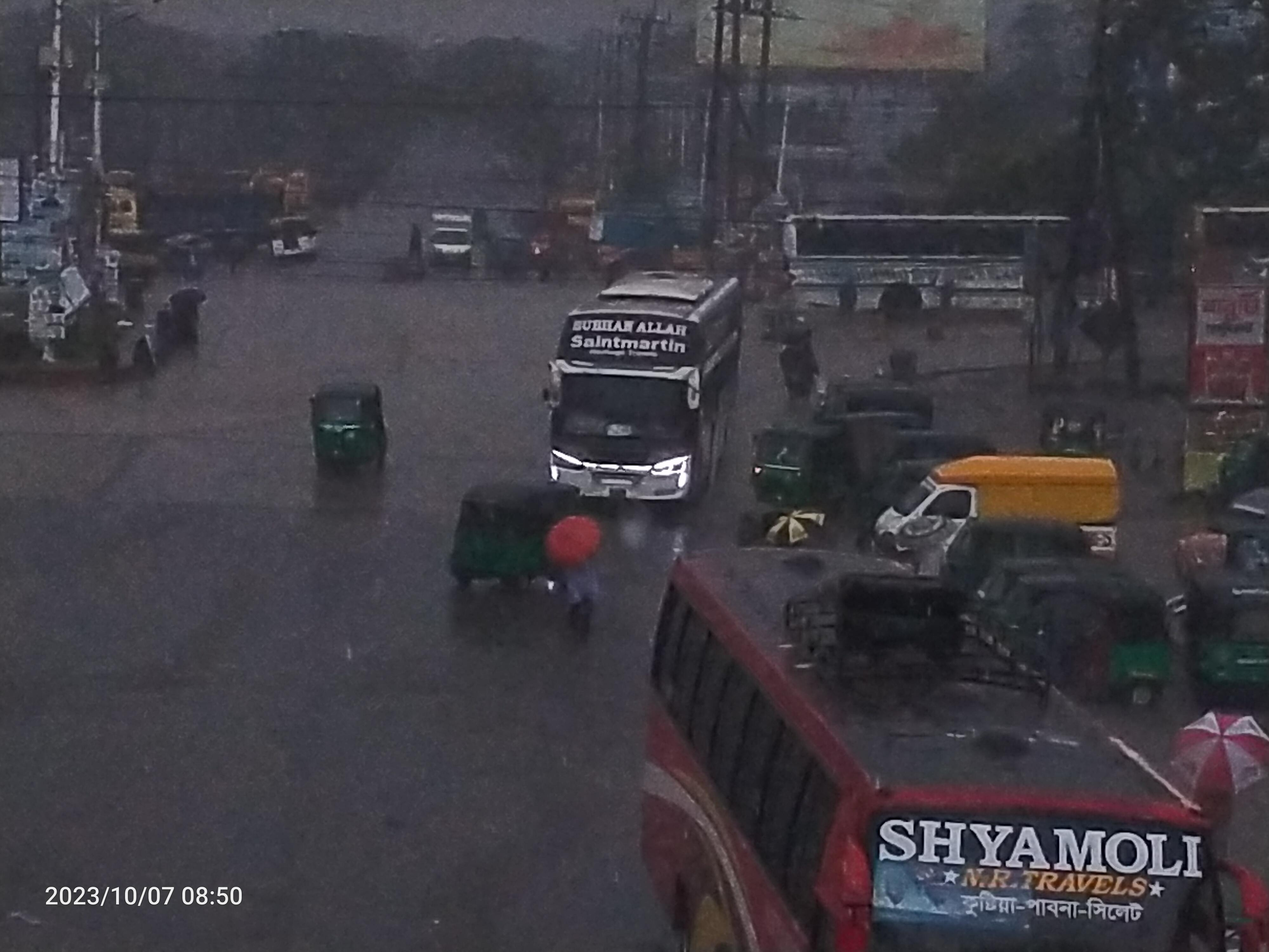Bus: (618, 521, 1237, 952), (520, 252, 760, 535), (755, 181, 1130, 349)
Car: (851, 438, 1144, 578), (403, 196, 496, 291)
